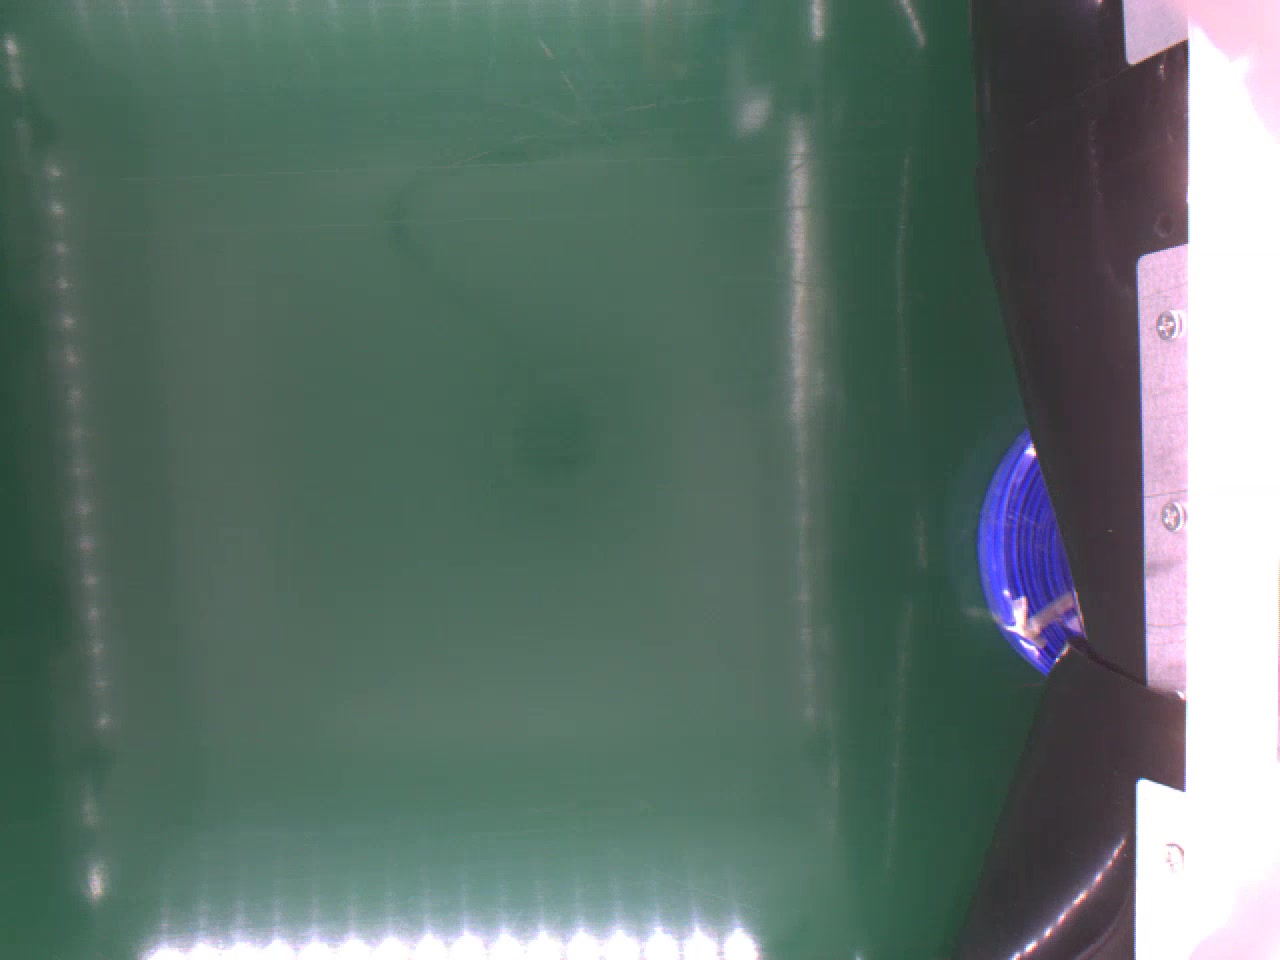blue: (973, 425, 1089, 676)
